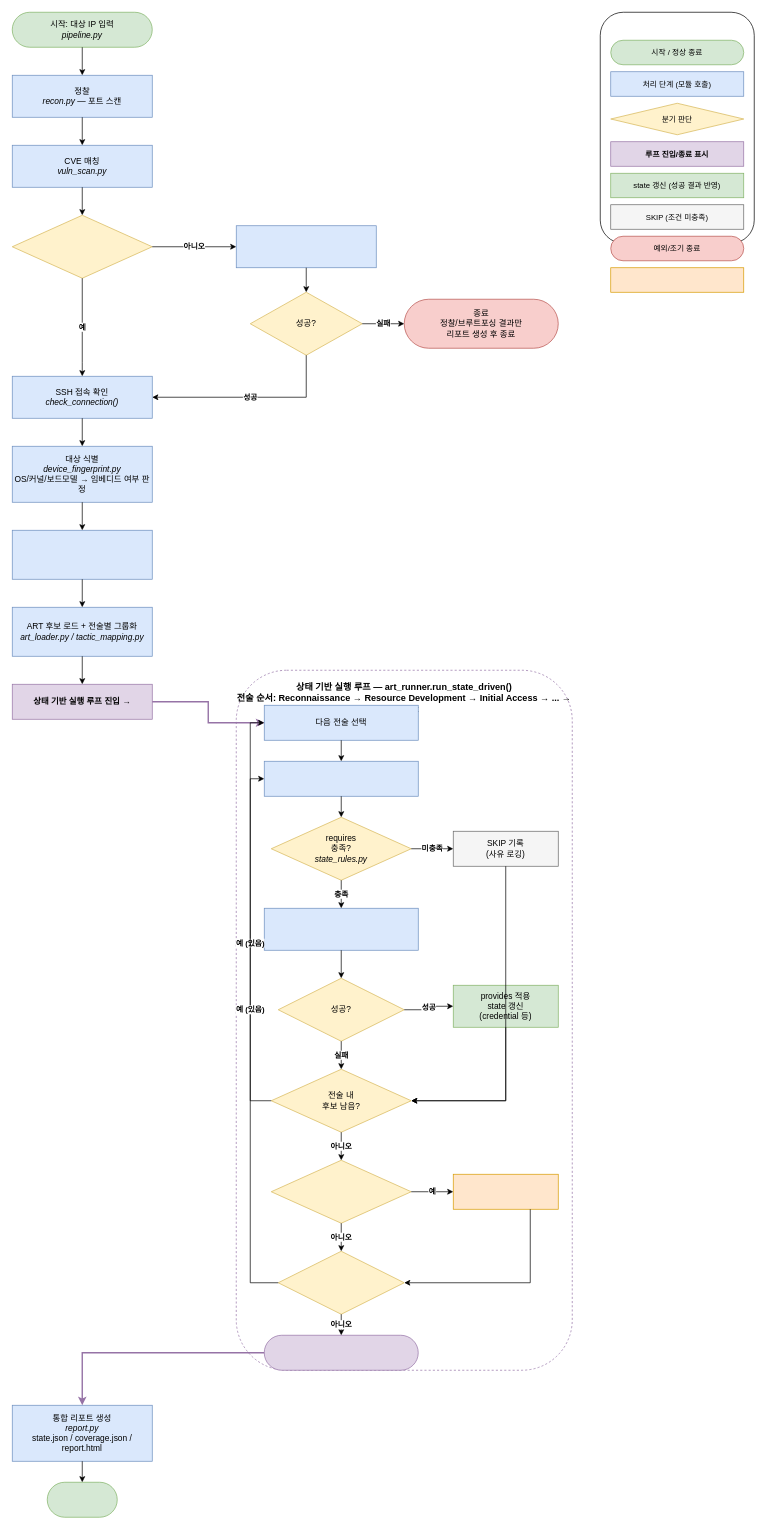
This 767x1530 diagram has some shape labels left out. Here are the shapes that lost their labels. From the top down, the box of each, then its label:
(600, 12, 754, 243): 범례
(12, 215, 152, 278): 자격정보 보유?
(236, 225, 376, 268): 브루트포싱 bruteforce.py
(610, 267, 744, 292): dead-end (전술 전체 SKIP)
(12, 530, 152, 579): KISA CIIP 진단 kisa_runner.py (Unix 67개 항목)
(264, 761, 418, 796): 전술 내 다음 후보 선택
(264, 908, 418, 950): 절차 실행 executor.py
(271, 1160, 411, 1223): 전술 전체 SKIP? (dead end)
(453, 1174, 558, 1209): dead-end 기록
(278, 1251, 404, 1314): 다음 전술 있음?
(264, 1335, 418, 1370): 루프 종료
(47, 1482, 117, 1517): 종료
